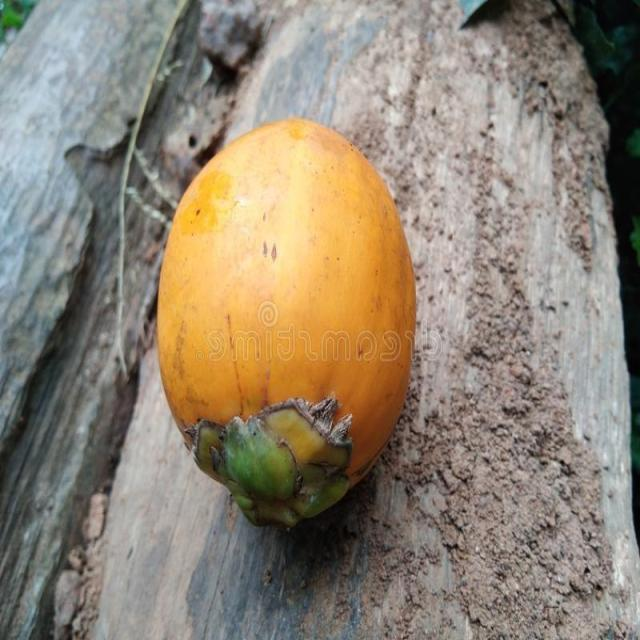good: (156, 118, 418, 531)
